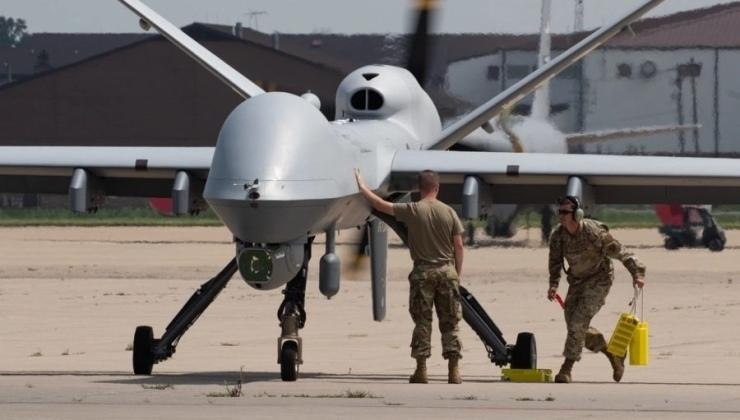aircraft: (1, 3, 723, 382)
